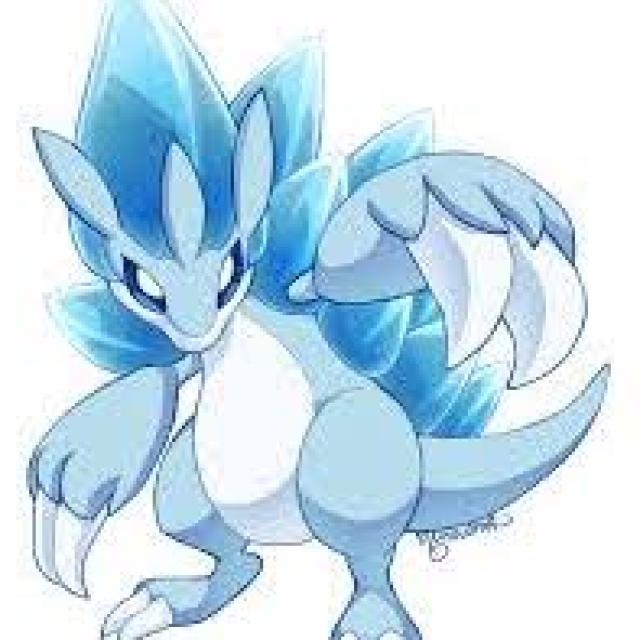Alolan: (41, 49, 578, 632)
